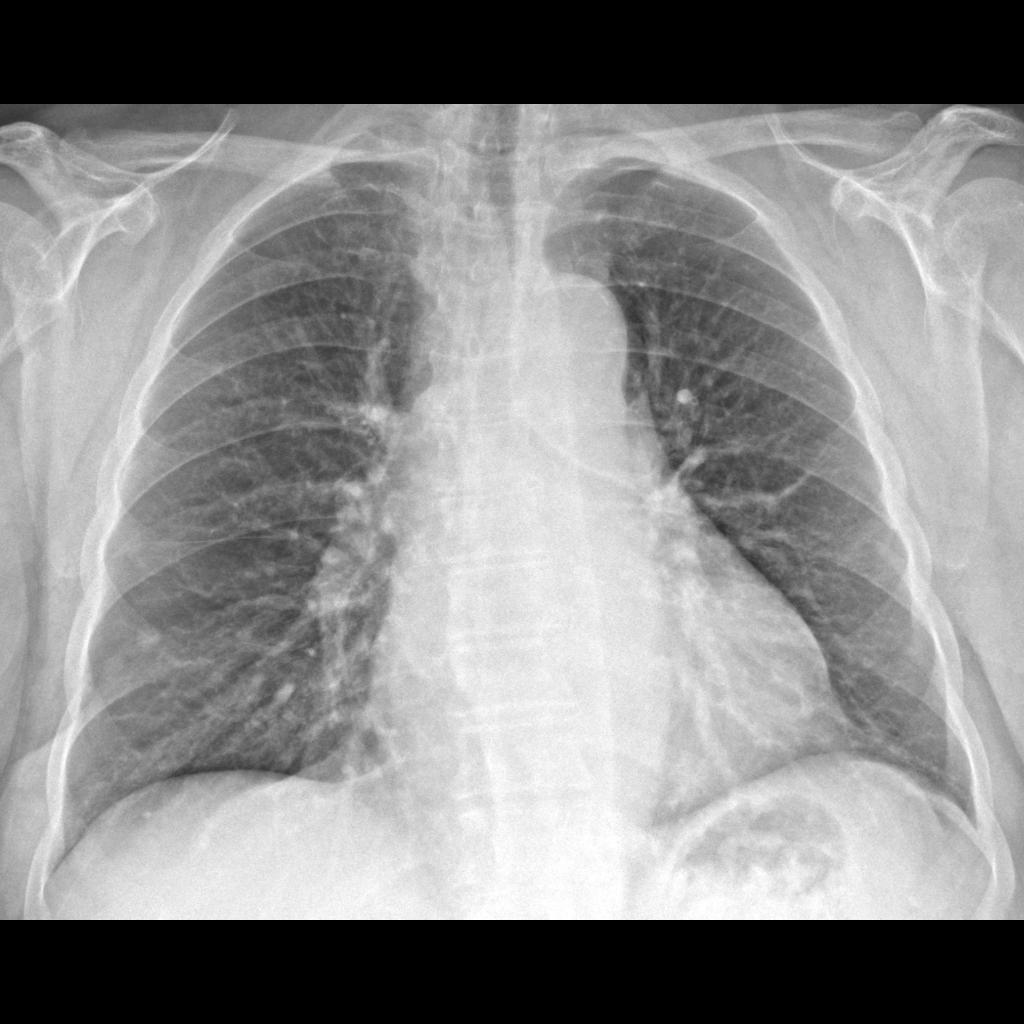Nodule: (121, 616, 169, 660)
